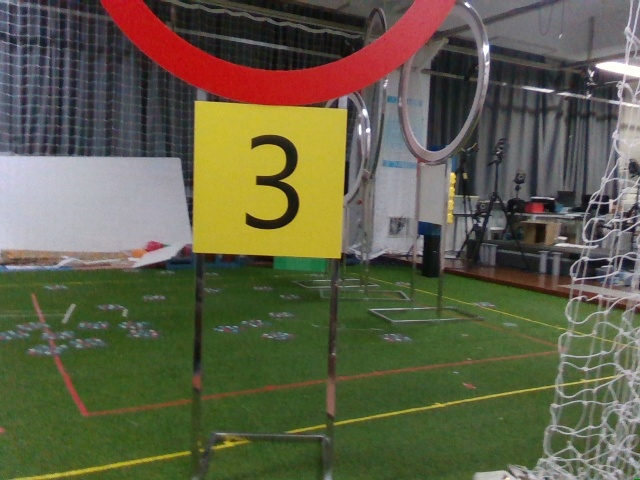target: (193, 105, 347, 254)
